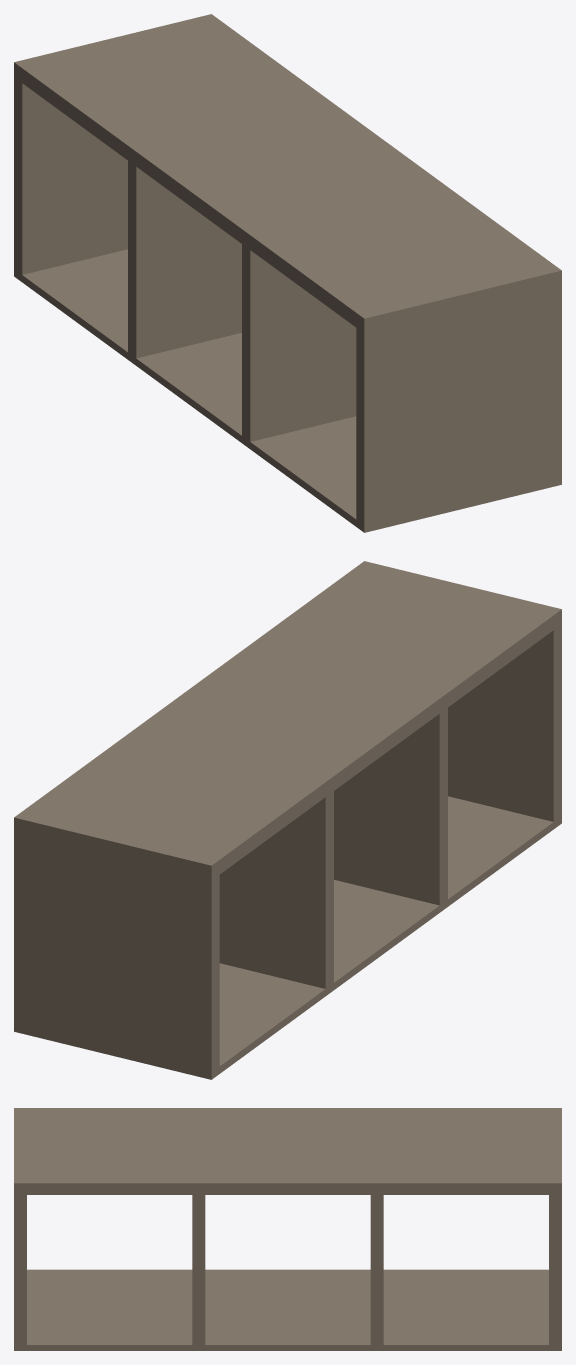
The picture shows the model from 3 angles, top to bottom: view 1: azimuth 30°, elevation 25°; view 2: azimuth 150°, elevation 25°; view 3: azimuth 270°, elevation 25°; orthographic projection. The views are drawn at different scales.
Visible parts, largest first — view 1: color, color-2, color_2, color-4; view 2: color, color-2, color_2, color-4; view 3: color, color_2, color-2, color-4.
Part boxes in pixels (left/top/right/bottom): color: left=14, top=14, right=561, bottom=532; color-2: left=246, top=240, right=360, bottom=529; color_2: left=132, top=156, right=246, bottom=445; color-4: left=18, top=73, right=132, bottom=362; color: left=14, top=561, right=561, bottom=1079; color-2: left=443, top=620, right=557, bottom=909; color_2: left=329, top=703, right=443, bottom=992; color-4: left=215, top=787, right=329, bottom=1076; color: left=14, top=1108, right=561, bottom=1350; color_2: left=198, top=1189, right=377, bottom=1350; color-2: left=20, top=1189, right=198, bottom=1350; color-4: left=377, top=1189, right=555, bottom=1350.
Size of the model in its own units: 0.5 by 0.518 by 1.54.
